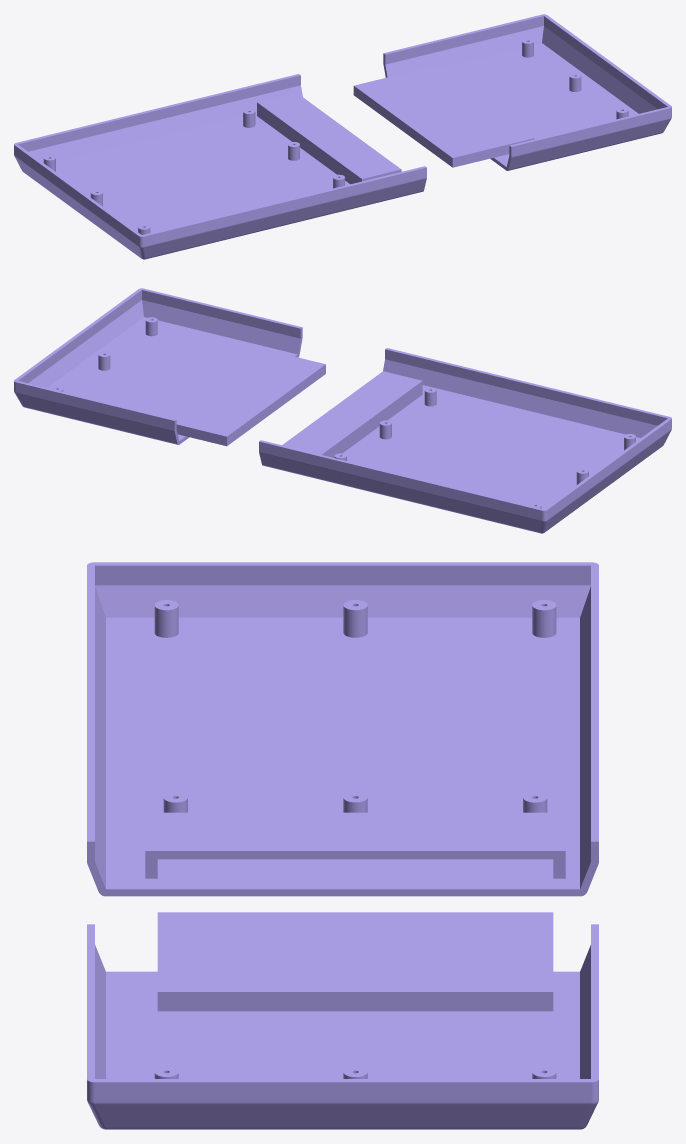
File: case_light.glb
3 views of the same model, one above another, from view 1: azimuth 30°, elevation 25°; view 2: azimuth 150°, elevation 25°; view 3: azimuth 270°, elevation 25° (orthographic). The views are drawn at different scales.
Visible parts, largest first — view 1: RightSlice; view 2: RightSlice; view 3: RightSlice.
Part boxes in pixels (x1=…): RightSlice: x1=14, y1=14, x2=671, y2=259; RightSlice: x1=14, y1=288, x2=671, y2=533; RightSlice: x1=87, y1=562, x2=598, y2=1129.
Bounding box in the file's own units: 0.4042 × 0.0198 × 0.1682.
